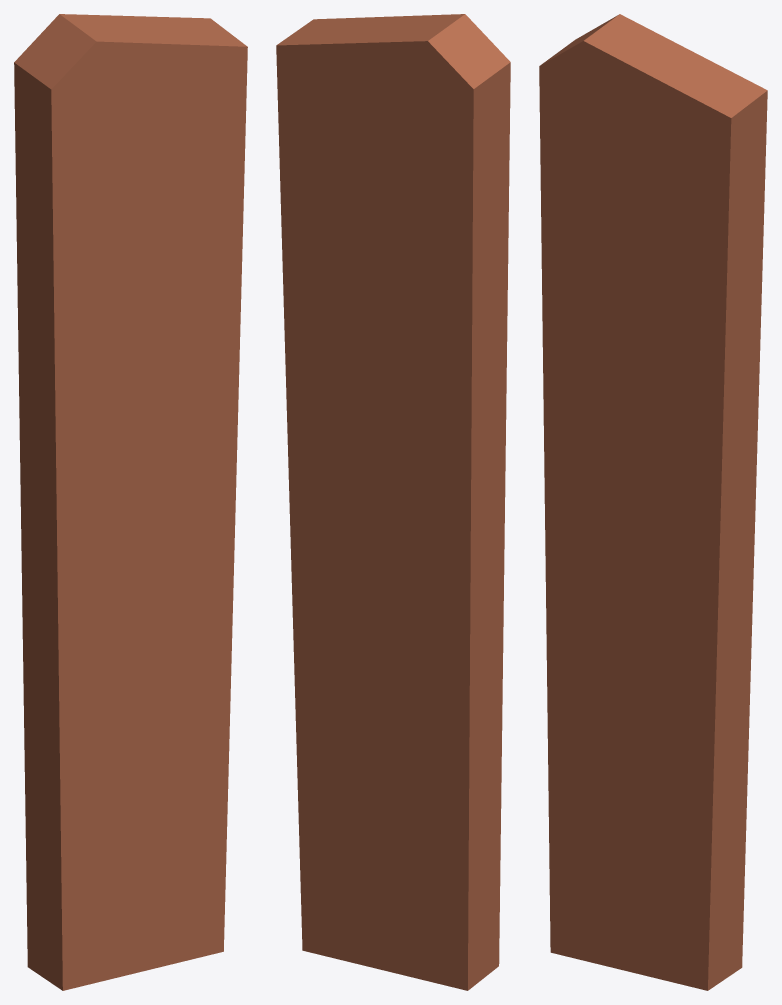
The model's file is Plank 04.fbx.
The picture shows the model from 3 angles, left to right: view 1: azimuth 30°, elevation 25°; view 2: azimuth 150°, elevation 25°; view 3: azimuth 330°, elevation 25°; orthographic projection. The views are drawn at different scales.
Parts seen in each view (by area): view 1: Plank 04; view 2: Plank 04; view 3: Plank 04.
Part boxes in pixels (box(x1,y1,x2,y2)): Plank 04: box(14, 14, 247, 990); Plank 04: box(276, 14, 510, 990); Plank 04: box(539, 14, 767, 990).
Size of the model in its own units: 22.71 by 104 by 7.46.
